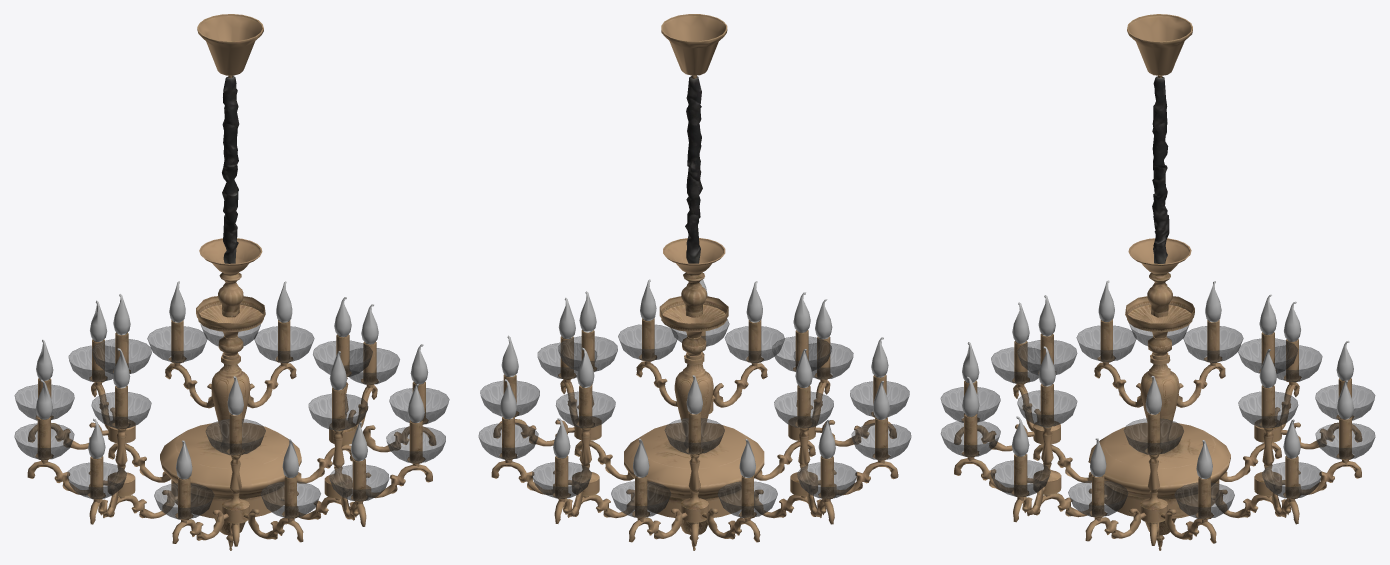
File: Chandelier_03.glb
3 renders of one model, left to right at view 1: azimuth 30°, elevation 25°; view 2: azimuth 150°, elevation 25°; view 3: azimuth 270°, elevation 25°, orthographic.
Parts seen in each view (by area): view 1: Chandelier_03; view 2: Chandelier_03; view 3: Chandelier_03.
Boxes of the visible parts, left/top/right/bottom form: Chandelier_03: left=14, top=14, right=449, bottom=550; Chandelier_03: left=478, top=14, right=911, bottom=550; Chandelier_03: left=940, top=14, right=1375, bottom=550.
Size of the model in its own units: 0.7804 by 1.04 by 0.7853.
Materials: 2 (2 with a texture image).
